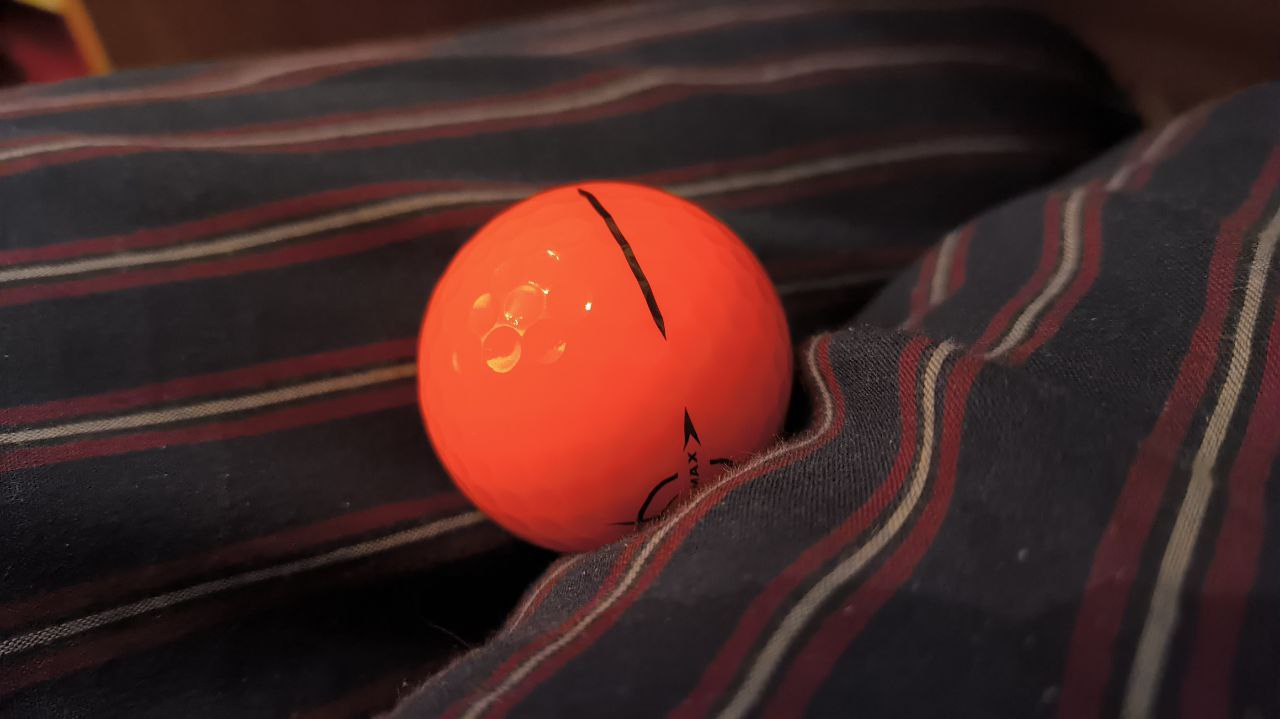orange_ball: (417, 181, 794, 553)
